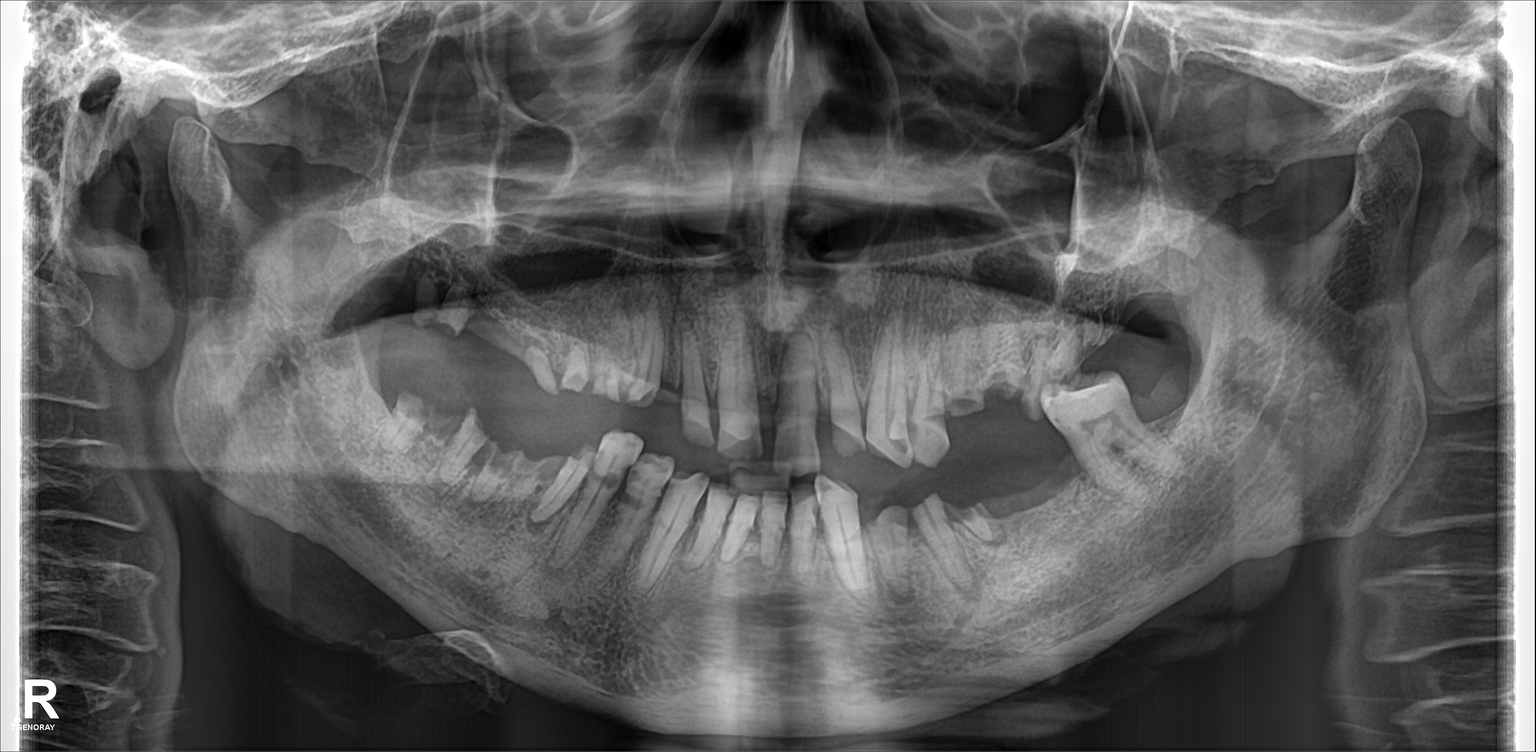Missing Tooth: (1021, 458, 1071, 535), (1155, 378, 1202, 451), (484, 305, 527, 384), (371, 274, 405, 361), (1088, 300, 1126, 372), (1140, 292, 1181, 346), (365, 382, 389, 463)
Retained Root: (959, 478, 1000, 572), (922, 478, 953, 594), (868, 506, 909, 591), (391, 389, 438, 457), (503, 434, 539, 517), (629, 328, 657, 428), (447, 410, 478, 498), (439, 281, 472, 352), (406, 274, 434, 349), (957, 359, 986, 428), (479, 432, 502, 514), (994, 352, 1022, 410), (536, 339, 560, 399), (596, 346, 621, 401), (566, 337, 588, 398)
